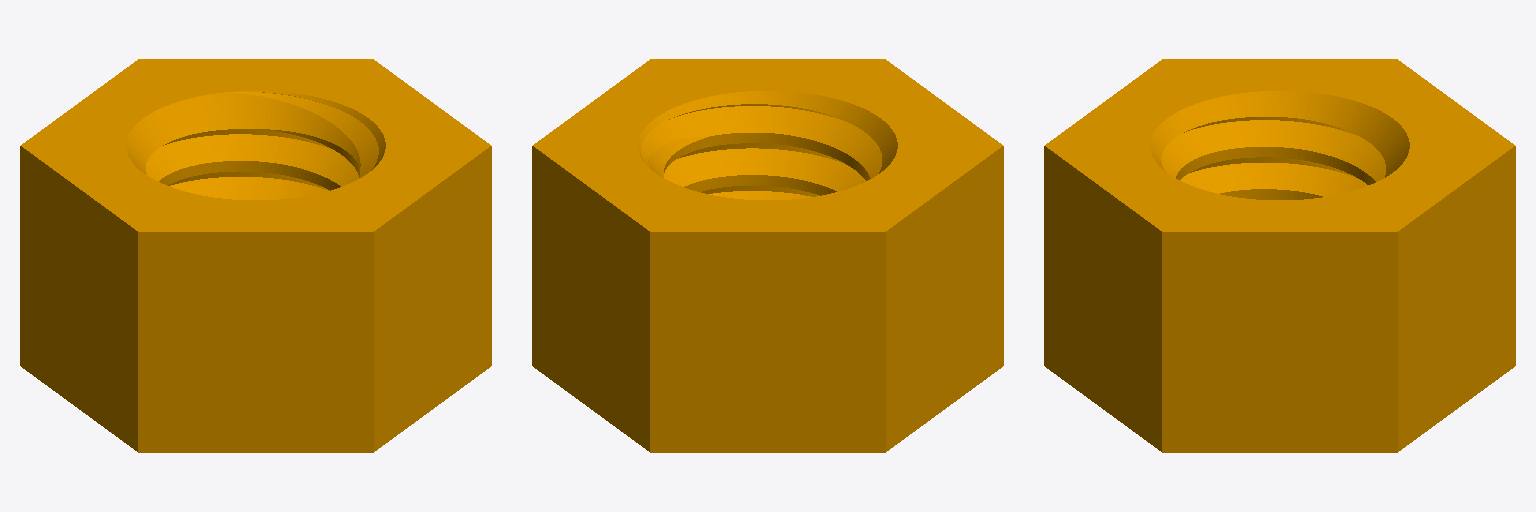
The robot description file, URDF, robot "nut3":
<?xml version="1.0"?>
<robot name="nut3">
    <link name="nut3">
        <visual>
            <geometry>
                <mesh filename="../mesh/nut/nut3.obj"/>
            </geometry>
        </visual>
        <collision>
            <geometry>
                <mesh filename="../mesh/nut/nut3.obj"/>
            </geometry>
            <sdf resolution="256"/>
        </collision>
    </link>
</robot>

--- Facts derived from the render (not from the file) ---
Views: 3 orthographic renders of the robot side by side, from view 1: azimuth 30°, elevation 25°; view 2: azimuth 150°, elevation 25°; view 3: azimuth 270°, elevation 25°.
Robot: nut3 — 1 links, 0 joints (none); root link nut3; default pose: every joint at zero.
Visible links, largest first — view 1: nut3; view 2: nut3; view 3: nut3.
Boxes of the visible links, <box> form: nut3: <box>20,59,491,452</box>; nut3: <box>532,59,1003,452</box>; nut3: <box>1044,59,1515,452</box>.
Size in the robot's own frame: 0.036 by 0.0416 by 0.0215 metres.
Meshes: 1 distinct files referenced, 1 mesh visuals loaded (1 OBJ).
